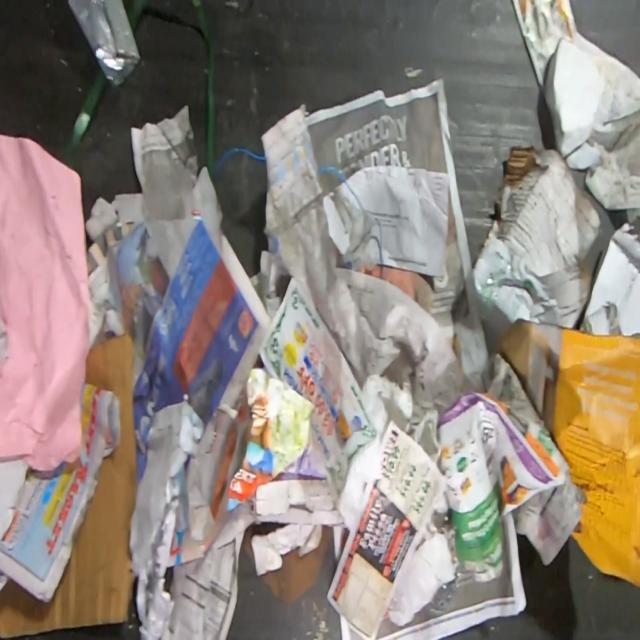cardboard: (0, 331, 138, 639), (472, 143, 604, 330)
soft_plastic: (208, 367, 316, 524), (66, 0, 142, 93)
